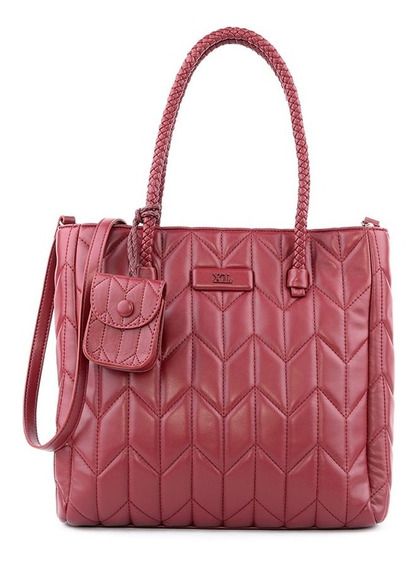cartera: (22, 27, 397, 532)
